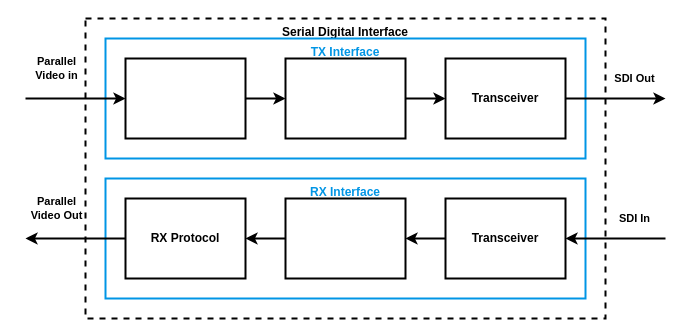
Image size: 691x336. Some labels were removed from this diagram. Here are the shapes that lost their labels. From the top down, the centre of each, then its label:
At (x=185, y=98): "TX Protocol".
At (x=345, y=98): "TX PHY Management & PHY Adapter".
At (x=345, y=238): "RX PHY Management & PHY Adapter".
